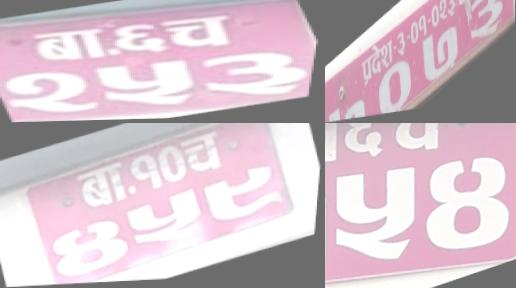0: (375, 49, 415, 117), (151, 141, 194, 190), (408, 19, 420, 50), (430, 4, 441, 36)
1: (325, 166, 350, 288), (125, 150, 170, 199), (325, 123, 354, 184), (416, 11, 429, 45)
2: (0, 62, 117, 122), (438, 0, 448, 30)
3: (189, 44, 318, 106), (465, 0, 506, 60), (395, 29, 408, 64), (445, 0, 457, 26)
4: (407, 136, 516, 266), (44, 211, 140, 285)
5: (325, 148, 440, 279), (83, 52, 217, 118), (120, 186, 215, 260)
6: (331, 123, 398, 173), (105, 21, 175, 58)
7: (419, 12, 462, 95), (328, 79, 370, 122)
9: (195, 160, 291, 234)
ba: (20, 24, 118, 67), (71, 158, 140, 218)
cha: (154, 9, 245, 54), (381, 123, 463, 169), (177, 128, 232, 182), (454, 0, 470, 17)
